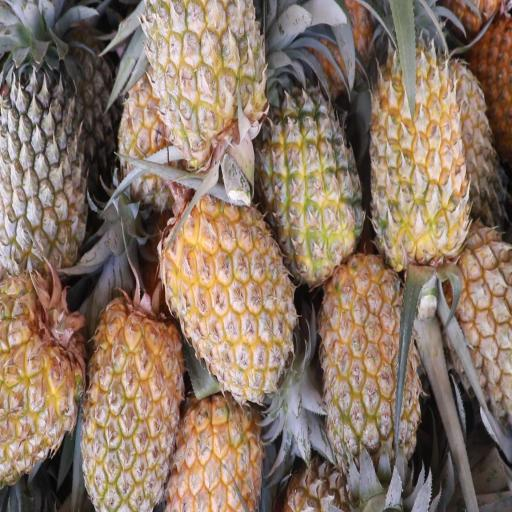------------------------------: (140, 1, 270, 207), (256, 64, 368, 293)
Pineapple - v8 v1: (154, 168, 303, 412), (316, 234, 424, 508), (368, 4, 474, 280), (79, 284, 185, 512), (0, 266, 89, 492), (162, 355, 264, 512), (447, 213, 512, 426)
